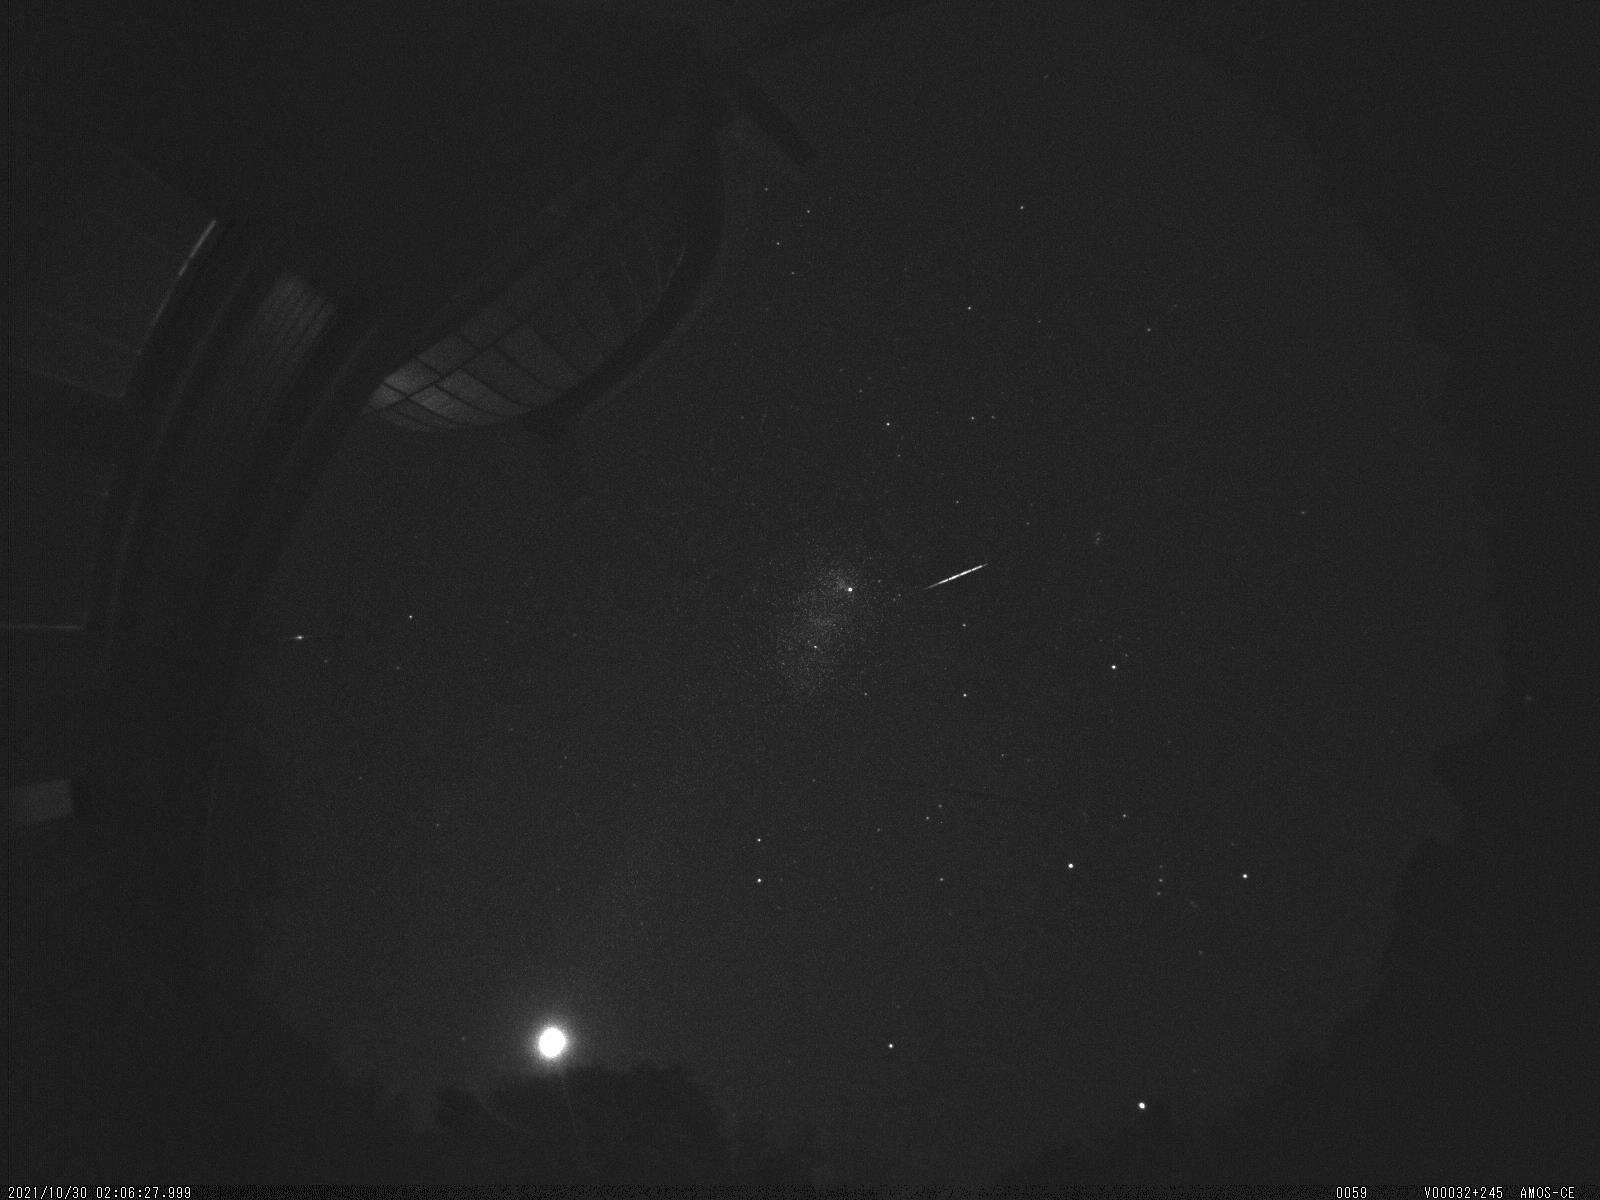Meteor: (907, 556, 1000, 604)
